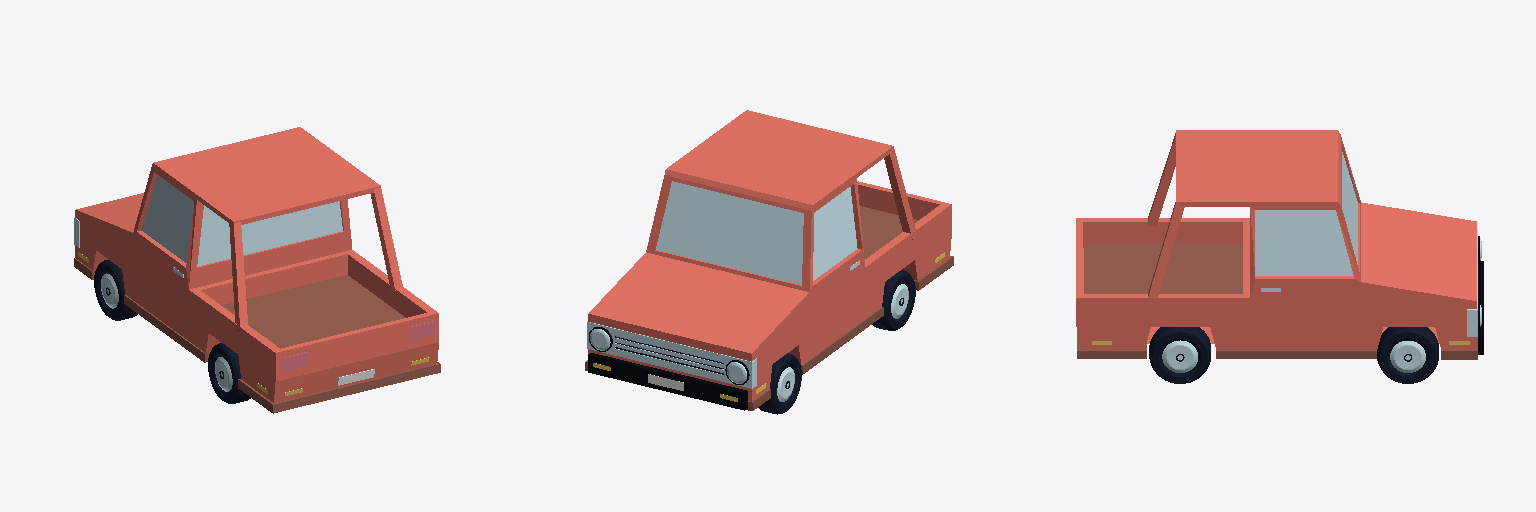
File: Lowpolycar.obj
The picture shows the model from 3 angles: view 1: azimuth 30°, elevation 25°; view 2: azimuth 150°, elevation 25°; view 3: azimuth 270°, elevation 25°; orthographic projection.
Visible parts, largest first — view 1: Cube_2_3_Mesh.030, Cube_Mesh.005, Cube_1_Mesh.004, Cylinder_1_2_Mesh.029, Cylinder_7_Mesh.006, Cube_1_2_Mesh.028, Cube_2_2_Mesh.027, Cube_2_Mesh.003; view 2: Cube_2_3_Mesh.030, Cube_3_2_Mesh.026, Cube_4_Mesh.022, Cylinder_1_2_Mesh.029, Cylinder_7_Mesh.006, Cube_Mesh.005, Cube_1_2_Mesh.028, Cube_2_Mesh.003; view 3: Cube_2_3_Mesh.030, Cube_Mesh.005, Cylinder_5_Mesh.008, Cylinder_6_Mesh.007, Cube_2_Mesh.003, Cube_2_2_Mesh.027, Cube_1_2_Mesh.028, Cube_1_Mesh.004.
Part boxes in pixels (bbox=[...]): Cube_2_3_Mesh.030: bbox=[75, 127, 438, 402]; Cube_Mesh.005: bbox=[221, 275, 405, 348]; Cube_1_Mesh.004: bbox=[238, 362, 440, 413]; Cylinder_1_2_Mesh.029: bbox=[208, 343, 250, 403]; Cylinder_7_Mesh.006: bbox=[94, 260, 137, 320]; Cube_1_2_Mesh.028: bbox=[229, 222, 247, 331]; Cube_2_2_Mesh.027: bbox=[371, 188, 402, 293]; Cube_2_Mesh.003: bbox=[124, 295, 209, 362]; Cube_2_3_Mesh.030: bbox=[588, 110, 951, 401]; Cube_3_2_Mesh.026: bbox=[587, 321, 756, 388]; Cube_4_Mesh.022: bbox=[588, 353, 747, 410]; Cylinder_1_2_Mesh.029: bbox=[872, 270, 915, 330]; Cylinder_7_Mesh.006: bbox=[758, 353, 801, 414]; Cube_Mesh.005: bbox=[860, 206, 918, 258]; Cube_1_2_Mesh.028: bbox=[884, 148, 916, 239]; Cube_2_Mesh.003: bbox=[801, 307, 883, 374]; Cube_2_3_Mesh.030: bbox=[1076, 130, 1476, 349]; Cube_Mesh.005: bbox=[1084, 244, 1242, 293]; Cylinder_5_Mesh.008: bbox=[1149, 327, 1210, 383]; Cylinder_6_Mesh.007: bbox=[1377, 327, 1438, 383]; Cube_2_Mesh.003: bbox=[1216, 350, 1376, 358]; Cube_2_2_Mesh.027: bbox=[1148, 202, 1184, 297]; Cube_1_2_Mesh.028: bbox=[1148, 133, 1175, 226]; Cube_1_Mesh.004: bbox=[1077, 333, 1146, 358].
Bounding box in the file's own units: 0.5446 × 0.5548 × 1.14.